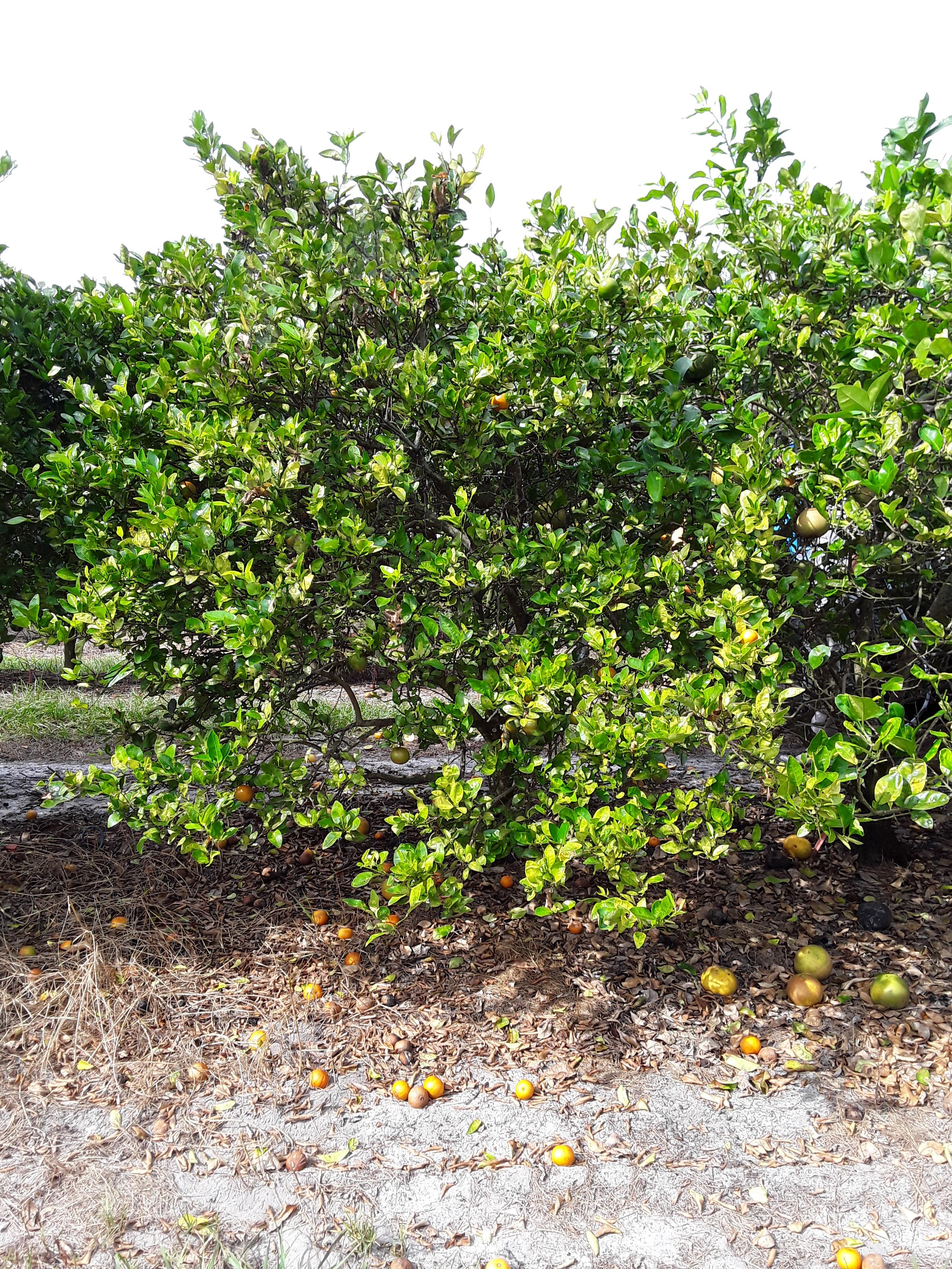fruit_on_ground: (791, 505, 836, 539), (530, 500, 572, 530), (679, 350, 719, 381), (787, 558, 820, 583), (595, 276, 622, 299), (347, 651, 373, 674), (488, 390, 515, 412), (694, 538, 722, 559), (853, 482, 880, 503), (522, 715, 544, 737), (680, 580, 701, 602), (233, 784, 256, 804), (175, 480, 200, 498), (739, 627, 761, 647), (389, 747, 413, 764), (282, 529, 302, 549), (596, 666, 618, 683), (502, 716, 523, 733), (730, 469, 746, 487), (569, 710, 585, 726), (655, 531, 674, 542), (520, 692, 539, 703)
fruit_on_tree: (860, 972, 913, 1012), (695, 965, 743, 1002), (792, 942, 839, 979), (787, 971, 823, 1005), (857, 899, 890, 930), (548, 1141, 580, 1170), (833, 1244, 868, 1269), (782, 832, 815, 858), (859, 1246, 894, 1269), (274, 1150, 312, 1171), (409, 1081, 432, 1113), (243, 1028, 276, 1050), (422, 1071, 446, 1101), (764, 848, 795, 871), (344, 812, 372, 837), (382, 875, 407, 901), (186, 1058, 212, 1083), (300, 980, 327, 1003), (706, 907, 733, 928), (481, 1252, 514, 1269), (389, 1076, 411, 1101), (305, 1069, 332, 1089), (740, 1034, 763, 1057), (380, 911, 401, 936), (309, 909, 333, 929), (516, 1075, 536, 1099), (317, 1000, 345, 1017), (296, 847, 318, 867), (106, 915, 133, 931), (350, 995, 378, 1010), (18, 942, 40, 961), (343, 945, 359, 971), (392, 1050, 418, 1066), (388, 1255, 417, 1269), (564, 917, 586, 935), (160, 926, 184, 942), (26, 967, 44, 984), (382, 1031, 402, 1046), (429, 870, 447, 886), (338, 928, 356, 942), (394, 1039, 413, 1052), (303, 750, 319, 765), (498, 872, 514, 887), (381, 993, 398, 1007), (25, 809, 44, 821), (224, 832, 243, 844), (137, 998, 151, 1014), (381, 859, 395, 873), (242, 894, 258, 906), (60, 939, 74, 952), (253, 897, 268, 909), (214, 836, 226, 850), (394, 807, 406, 818), (375, 829, 386, 841), (649, 835, 660, 847), (373, 731, 387, 739), (311, 780, 325, 788)
